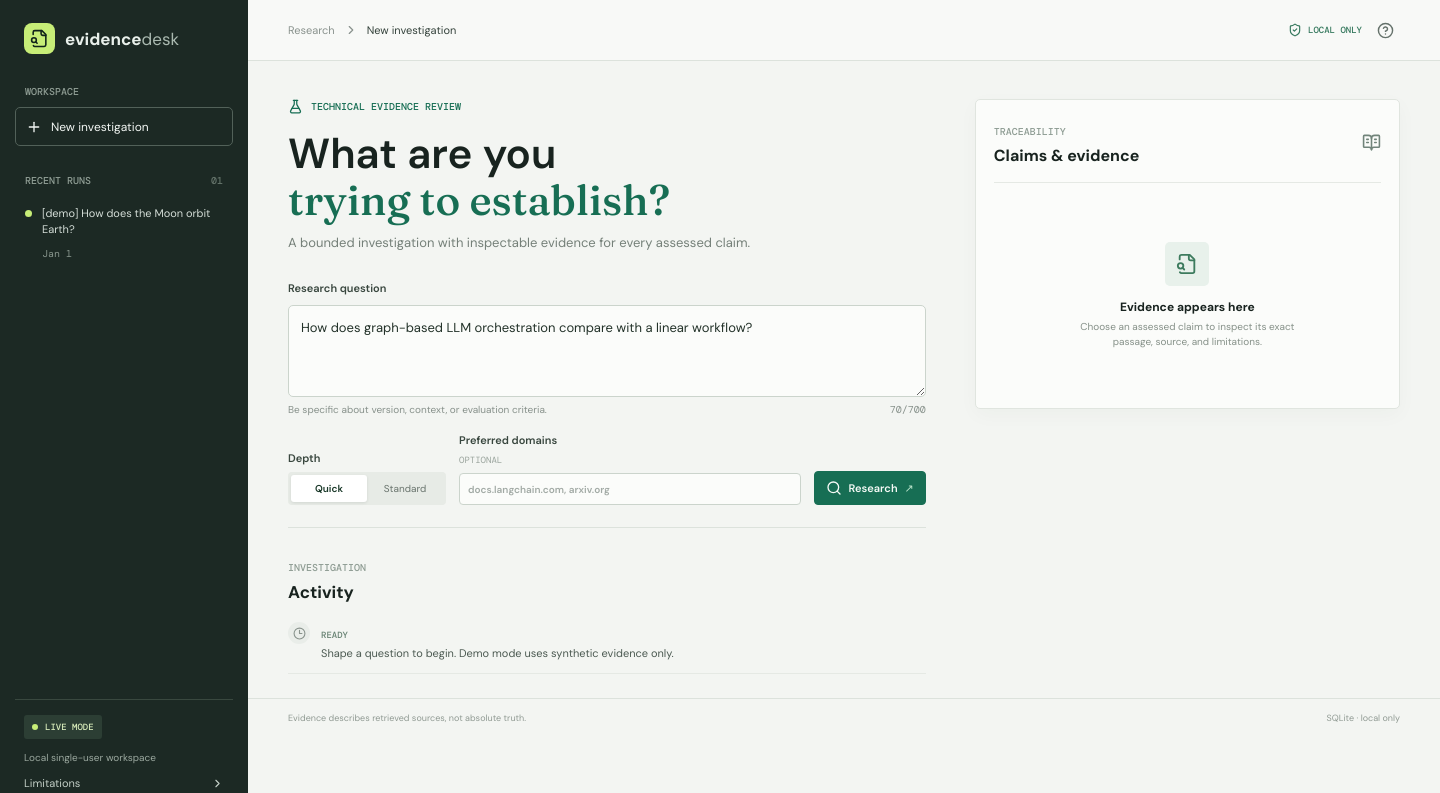
Test case: status presentation › opens the selected saved response and retains demo mode on a live server
This screenshot has width=1440, height=793.
Step 1. Click the button "[demo] How does the Moon orbit Earth? Jan 1" → (124, 233), box [15,196,233,270]
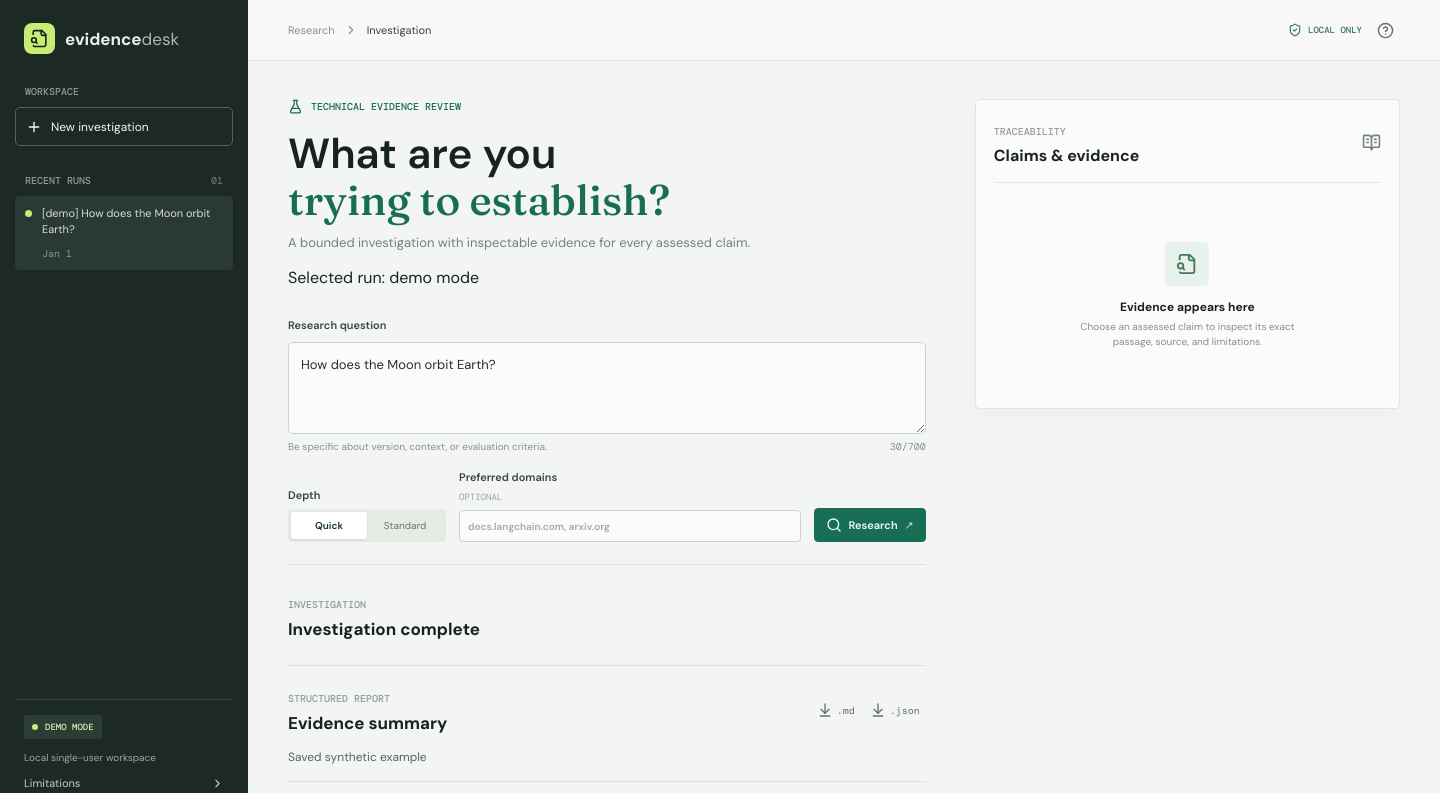
Result: the text "Saved synthetic example" is shown at [288,749,427,765]
Result: the text "Selected run: demo mode" is shown at [288,267,479,288]
Result: the text "DEMO MODE" is shown at [24,715,102,739]
